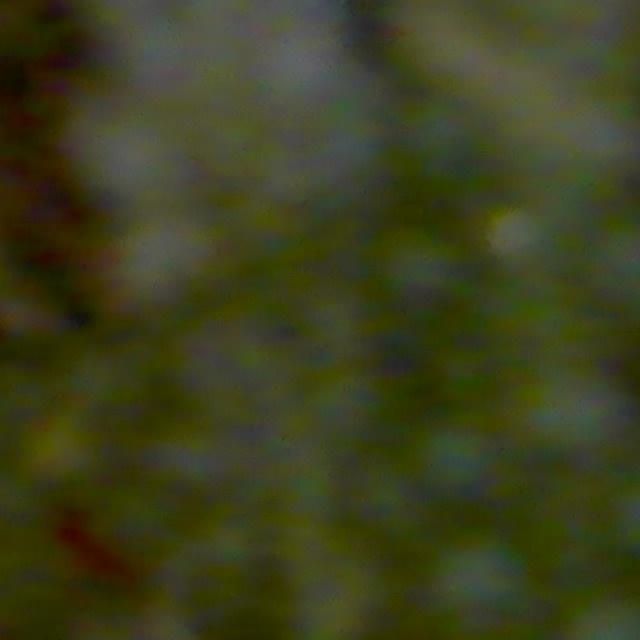SeaGrape: (66, 96, 191, 192), (523, 364, 628, 457), (434, 530, 528, 617), (113, 204, 198, 298), (286, 114, 371, 204), (378, 224, 463, 306), (419, 421, 495, 496), (264, 25, 322, 110), (134, 28, 207, 92), (483, 203, 552, 269)
